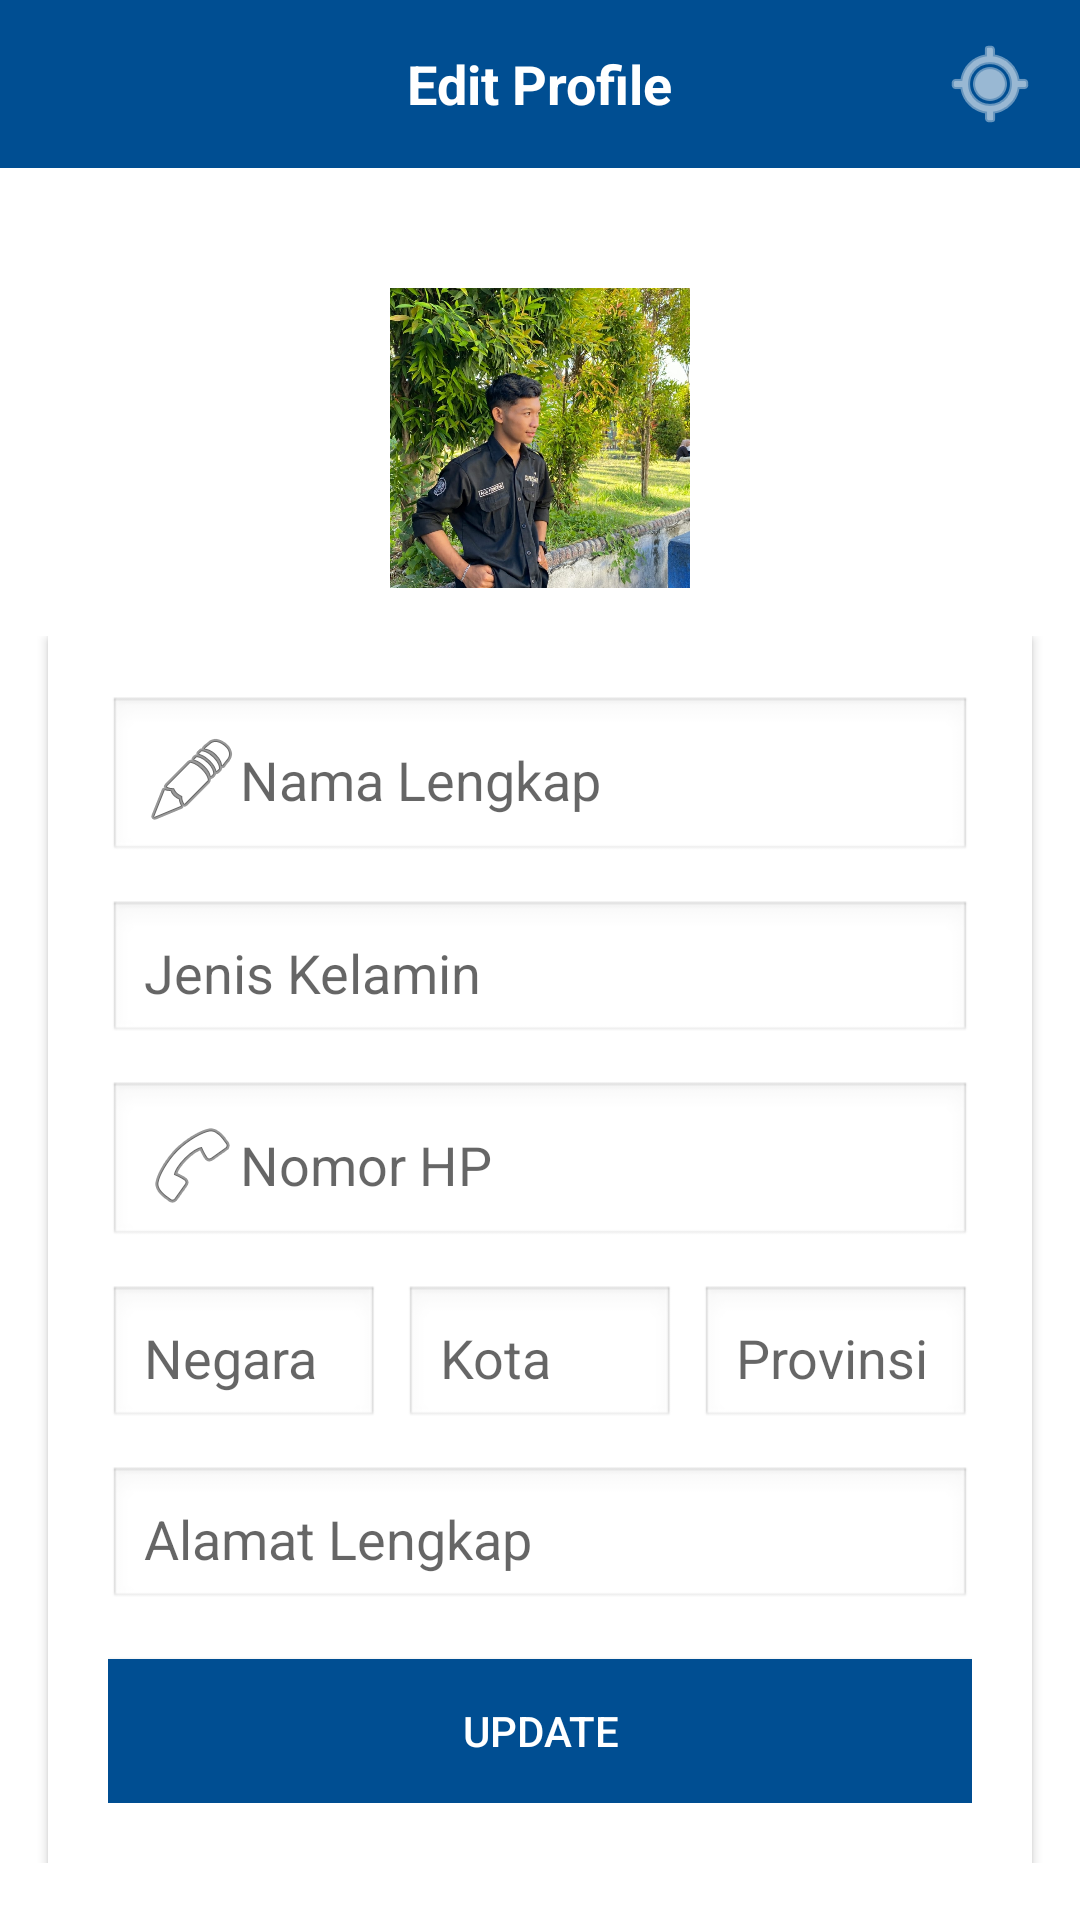

Where to tap for icons on this 1080 x 1920 app screen, as (x,y):
GPS: (990,84)
